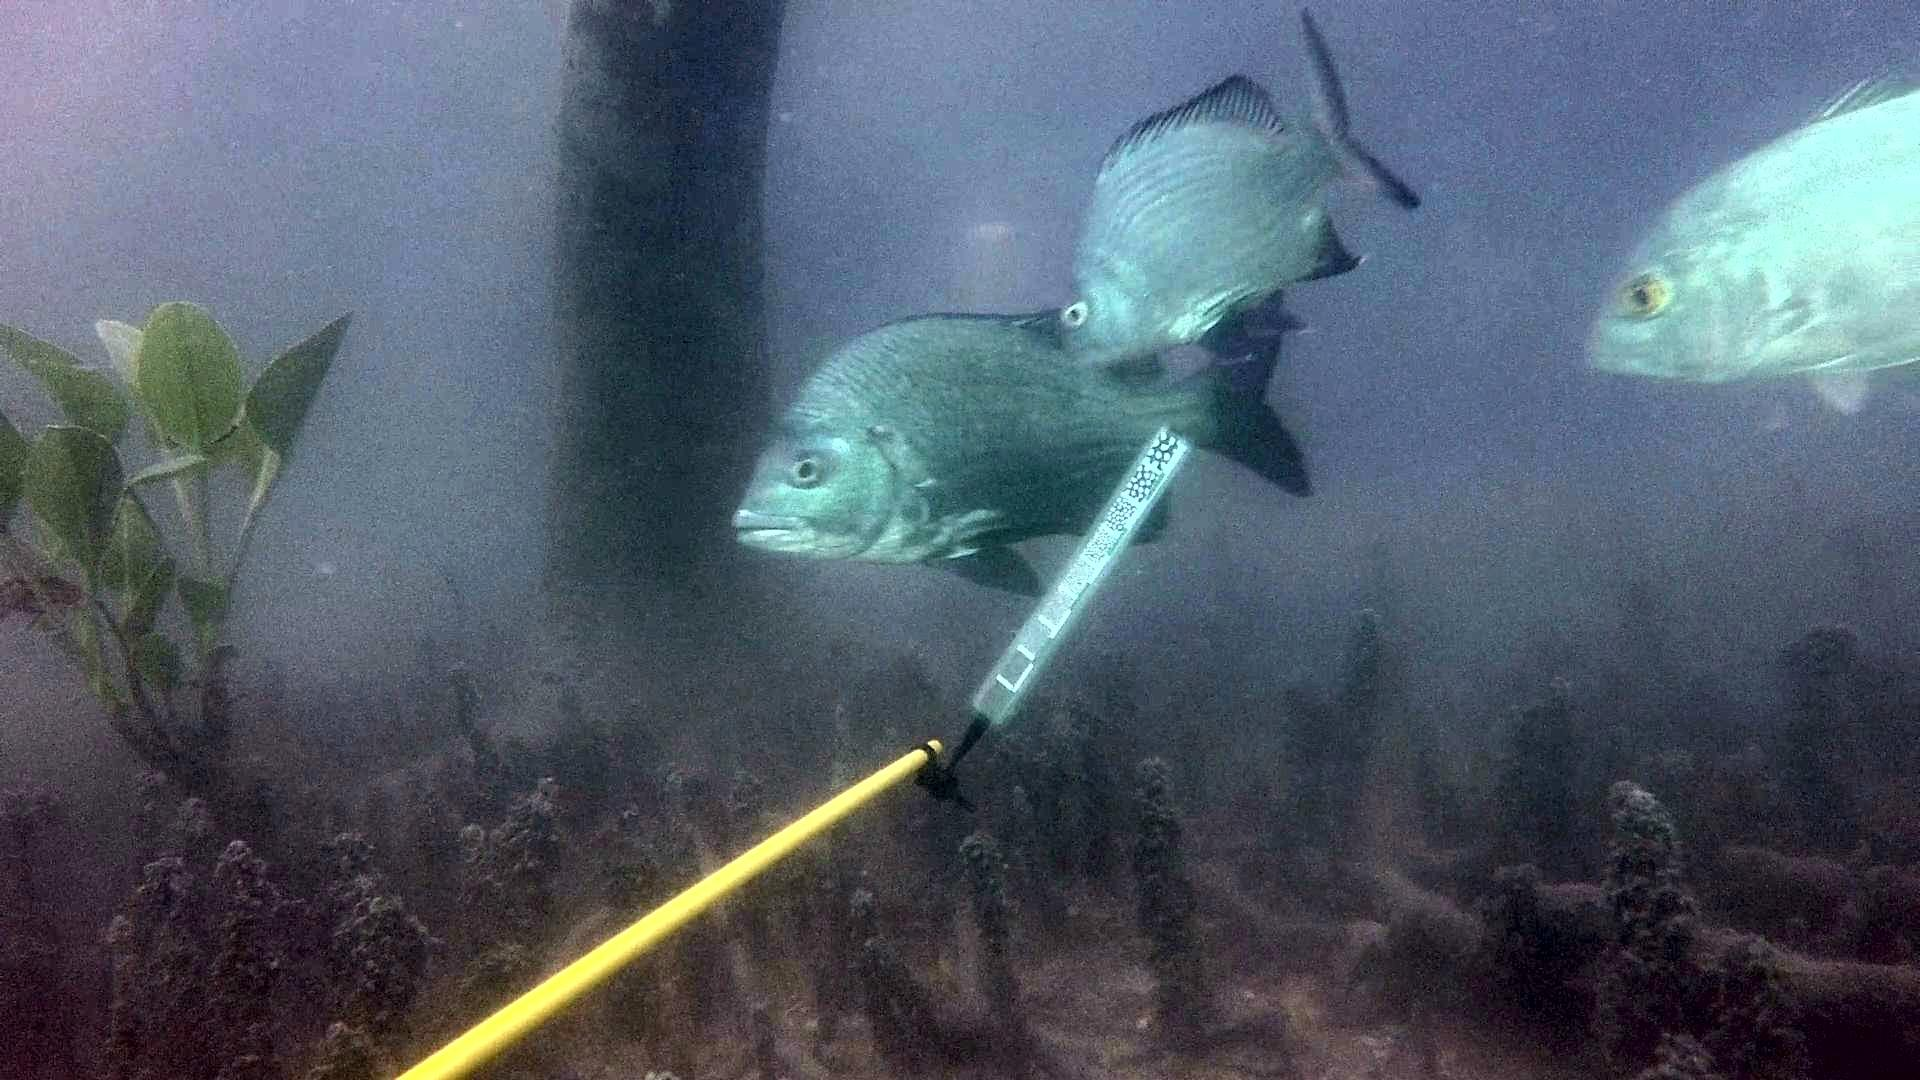acanthopagrus palmaris: (728, 273, 1328, 613), (1046, 0, 1449, 369)
caranx: (1576, 58, 1920, 423)
